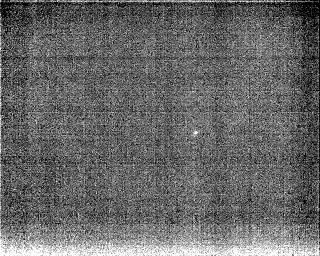BIRD: (191, 128, 200, 138)
